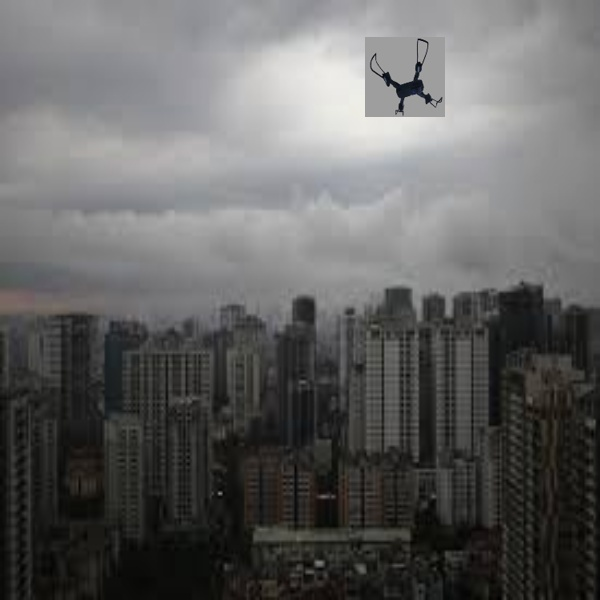drone: (366, 34, 446, 112)
